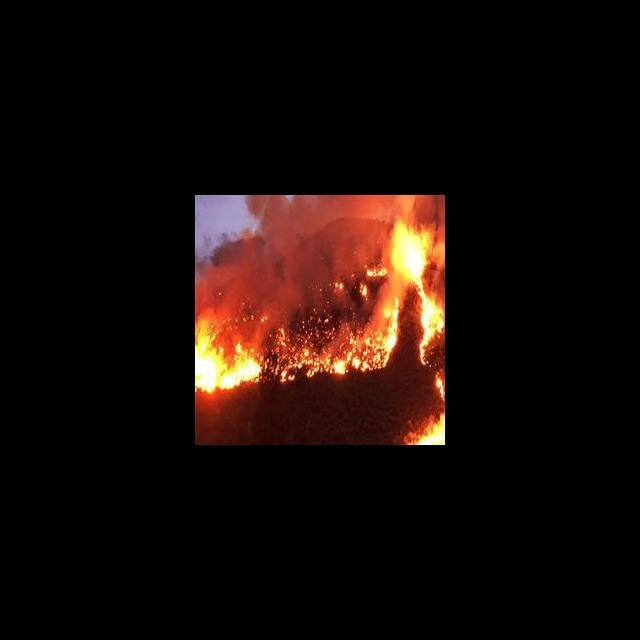Fire: (195, 214, 444, 444)
